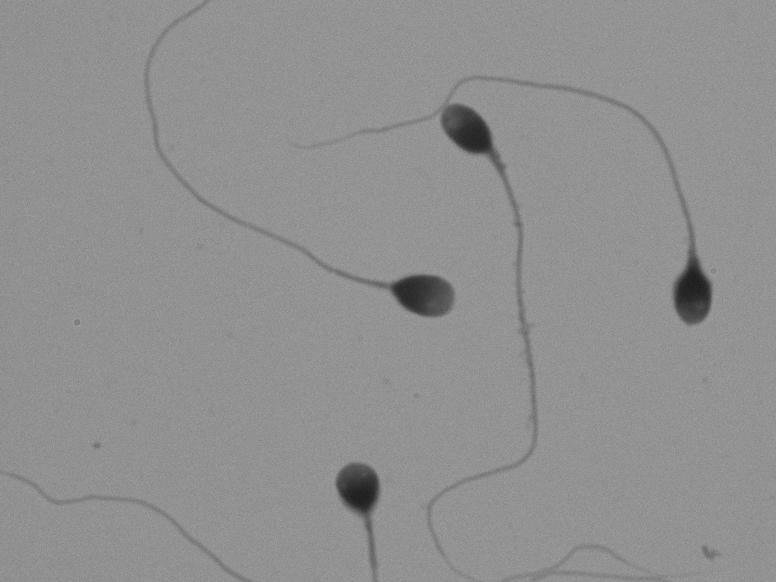Abnormal: (270, 439, 406, 559)
Normal: (422, 30, 583, 580), (91, 150, 460, 357), (525, 52, 747, 344)
